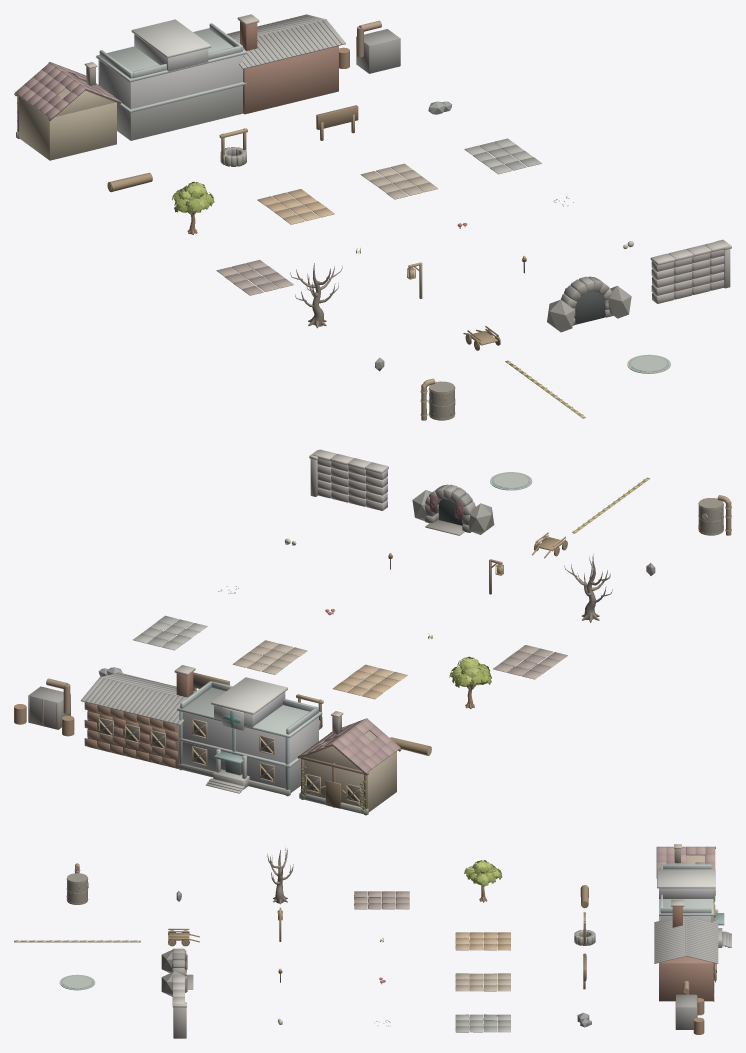
The model's file is GrowAMonster_RoadV2.glb.
3 renders of one model, top to bottom at view 1: azimuth 30°, elevation 25°; view 2: azimuth 150°, elevation 25°; view 3: azimuth 270°, elevation 25°, orthographic. The views are drawn at different scales.
Parts seen in each view (by area): view 1: MR_Hospital__Main, MR_Factory__Main, MR_VillageHouse__Main, MR_WallDetailed__Main, MR_CultCave__Main, MR_Boiler__Main, MR_DirtPath__Main, MR_VillagePaving__Main, MR_CavePaving__Main, MR_FactoryPaving__Main, MR_RustTank__Main, MR_ForestTree__Canopy (+4 smaller); view 2: MR_Hospital__Main, MR_Factory__Main, MR_VillageHouse__Main, MR_WallDetailed__Main, MR_CultCave__Main, MR_Boiler__Main, MR_VillagePaving__Main, MR_CavePaving__Main, MR_DirtPath__Main, MR_FactoryPaving__Main, MR_RustTank__Main, MR_ForestTree__Canopy (+2 smaller); view 3: MR_Factory__Main, MR_Hospital__Main, MR_VillageHouse__Main, MR_Boiler__Main, MR_CavePaving__Main, MR_DirtPath__Main, MR_VillagePaving__Main, MR_FactoryPaving__Main, MR_CultCave__Main, MR_WallDetailed__Main, MR_RustTank__Main, MR_ForestTree__Canopy (+5 smaller).
Boxes of the visible parts, x1,y1,x2,y2 form: MR_Hospital__Main: (96,19,246,140); MR_Factory__Main: (227,14,345,114); MR_VillageHouse__Main: (14,62,121,160); MR_WallDetailed__Main: (650,239,731,303); MR_CultCave__Main: (547,276,631,332); MR_Boiler__Main: (339,20,400,73); MR_DirtPath__Main: (257,189,334,224); MR_VillagePaving__Main: (360,163,438,199); MR_CavePaving__Main: (216,260,293,295); MR_FactoryPaving__Main: (464,138,541,174); MR_RustTank__Main: (420,378,455,420); MR_ForestTree__Canopy: (172,181,214,213); MR_Hospital__Main: (177,677,322,796); MR_Factory__Main: (81,665,195,768); MR_VillageHouse__Main: (297,711,401,815); MR_WallDetailed__Main: (309,449,388,510); MR_CultCave__Main: (412,484,494,535); MR_Boiler__Main: (14,678,74,736); MR_VillagePaving__Main: (232,640,307,674); MR_CavePaving__Main: (493,645,567,679); MR_DirtPath__Main: (332,664,407,699); MR_FactoryPaving__Main: (133,615,207,650); MR_RustTank__Main: (698,495,731,535); MR_ForestTree__Canopy: (449,656,491,687); MR_Factory__Main: (654,899,718,1001); MR_Hospital__Main: (657,864,731,947); MR_VillageHouse__Main: (656,844,715,902); MR_Boiler__Main: (675,981,704,1034); MR_CavePaving__Main: (354,891,409,909); MR_DirtPath__Main: (455,932,510,950); MR_VillagePaving__Main: (455,973,510,991); MR_FactoryPaving__Main: (455,1014,510,1032); MR_CultCave__Main: (161,948,193,996); MR_WallDetailed__Main: (172,975,186,1038); MR_RustTank__Main: (66,863,88,904); MR_ForestTree__Canopy: (464,860,502,886).
Bounding box in the file's own units: 85.61 × 18.75 × 170.
